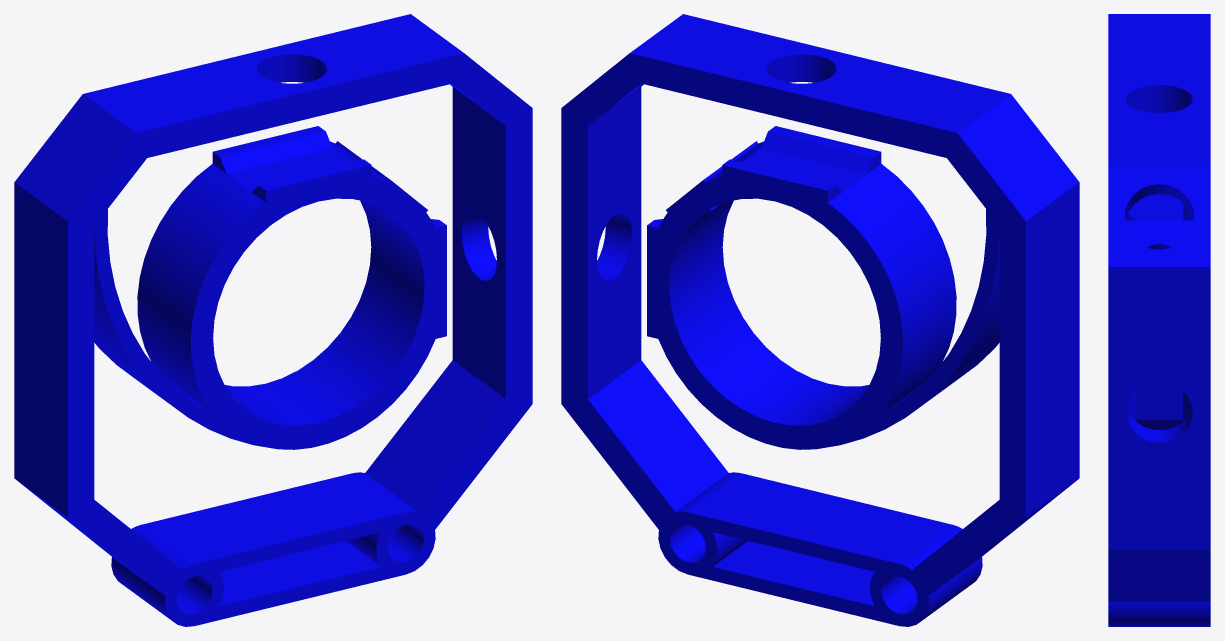
The model's file is Cube 1x1 V5_Laser Holder (USB Laser).obj.
The picture shows the model from 3 angles, left to right: view 1: azimuth 30°, elevation 25°; view 2: azimuth 150°, elevation 25°; view 3: azimuth 270°, elevation 25°; orthographic projection. The views are drawn at different scales.
Parts seen in each view (by area): view 1: Solid1:20; view 2: Solid1:20; view 3: Solid1:20.
Boxes of the visible parts, x1=… form: Solid1:20: x1=14, y1=14, x2=532, y2=626; Solid1:20: x1=561, y1=14, x2=1079, y2=626; Solid1:20: x1=1108, y1=14, x2=1210, y2=626.
Size of the model in its own units: 43.94 by 45.83 by 8.75.
